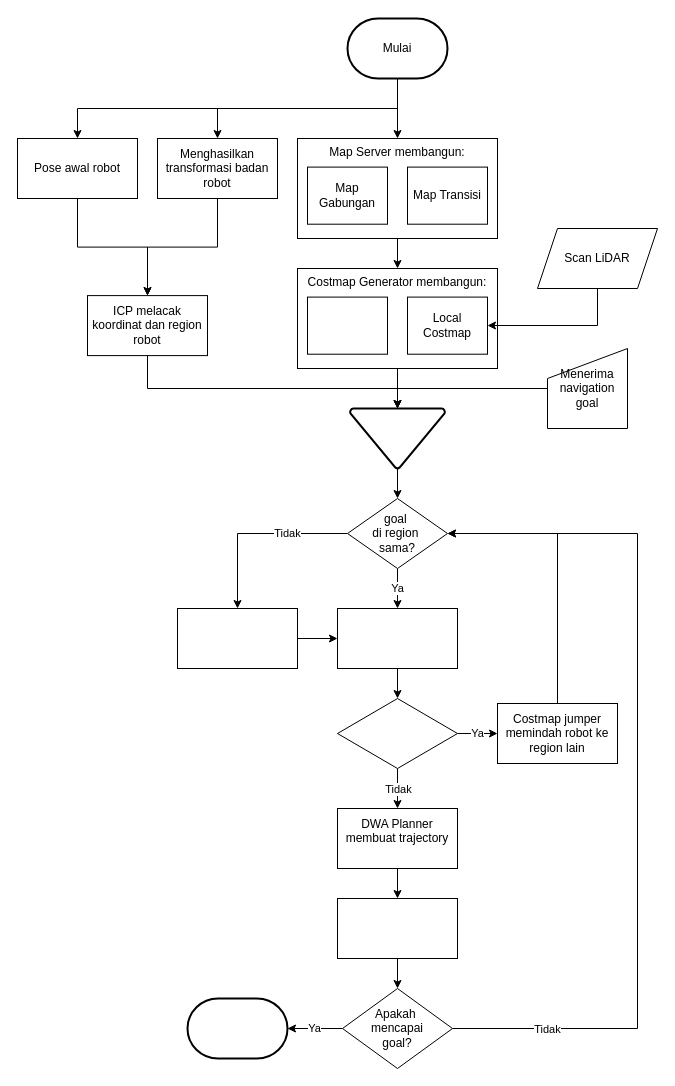
The diagram is 675 pixels wide and 1086 high, and some of its shapes have lost their labels. Here are the shapes that lost their labels. From the top down, the centre of each, then its label:
(347,325): Global Costmap
(397,438): Navigasi mulai
(237,638): Path interceptor memberi goal perantara
(397,638): Global Planner membuat path
(397,733): robot di zona transisi?
(397,928): Trajectory dijalankan robot
(237,1028): Selesai
